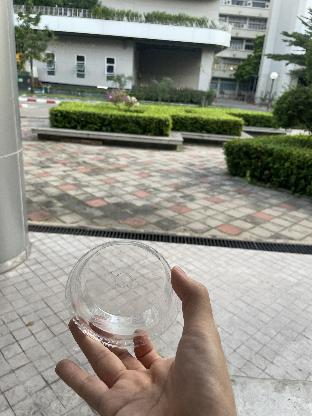Others: (64, 238, 176, 350)
